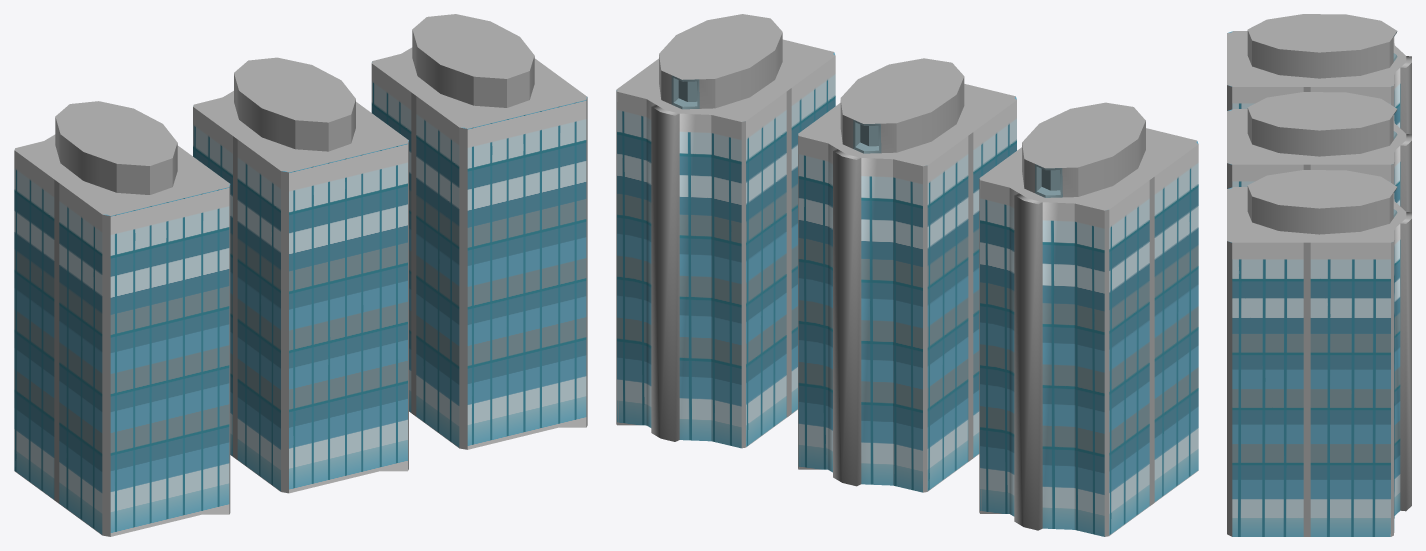
The model's file is cent1.fbx.
The picture shows the model from 3 angles, left to right: view 1: azimuth 30°, elevation 25°; view 2: azimuth 150°, elevation 25°; view 3: azimuth 270°, elevation 25°; orthographic projection. The views are drawn at different scales.
Parts seen in each view (by area): view 1: Cube.002; view 2: Cube.002; view 3: Cube.002.
Boxes of the visible parts, x1,y1,x2,y2 form: Cube.002: (14,14,587,536); Cube.002: (616,14,1198,536); Cube.002: (1227,14,1411,536).
Bounding box in the file's own units: 333 × 235 × 123.
3 materials, 1 textured.
